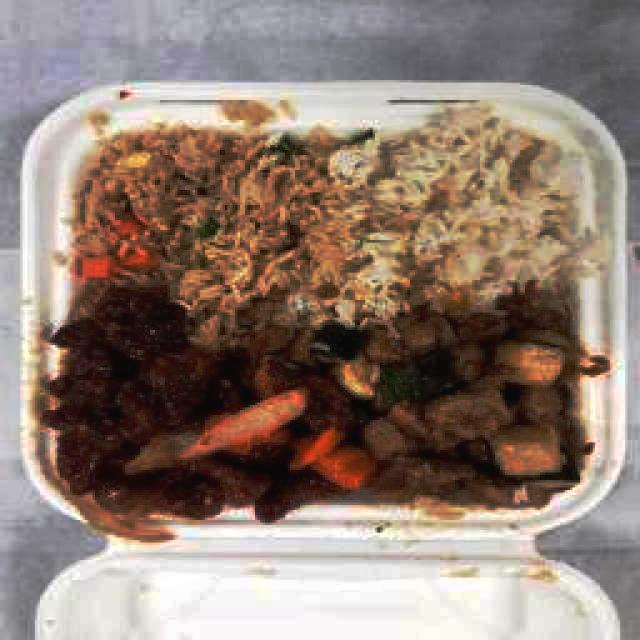Beijing Beef: (71, 324, 366, 515)
Fried Rice: (70, 128, 369, 293)
Kung Pao Chicken: (375, 313, 576, 500)
rice: (372, 122, 584, 296)
